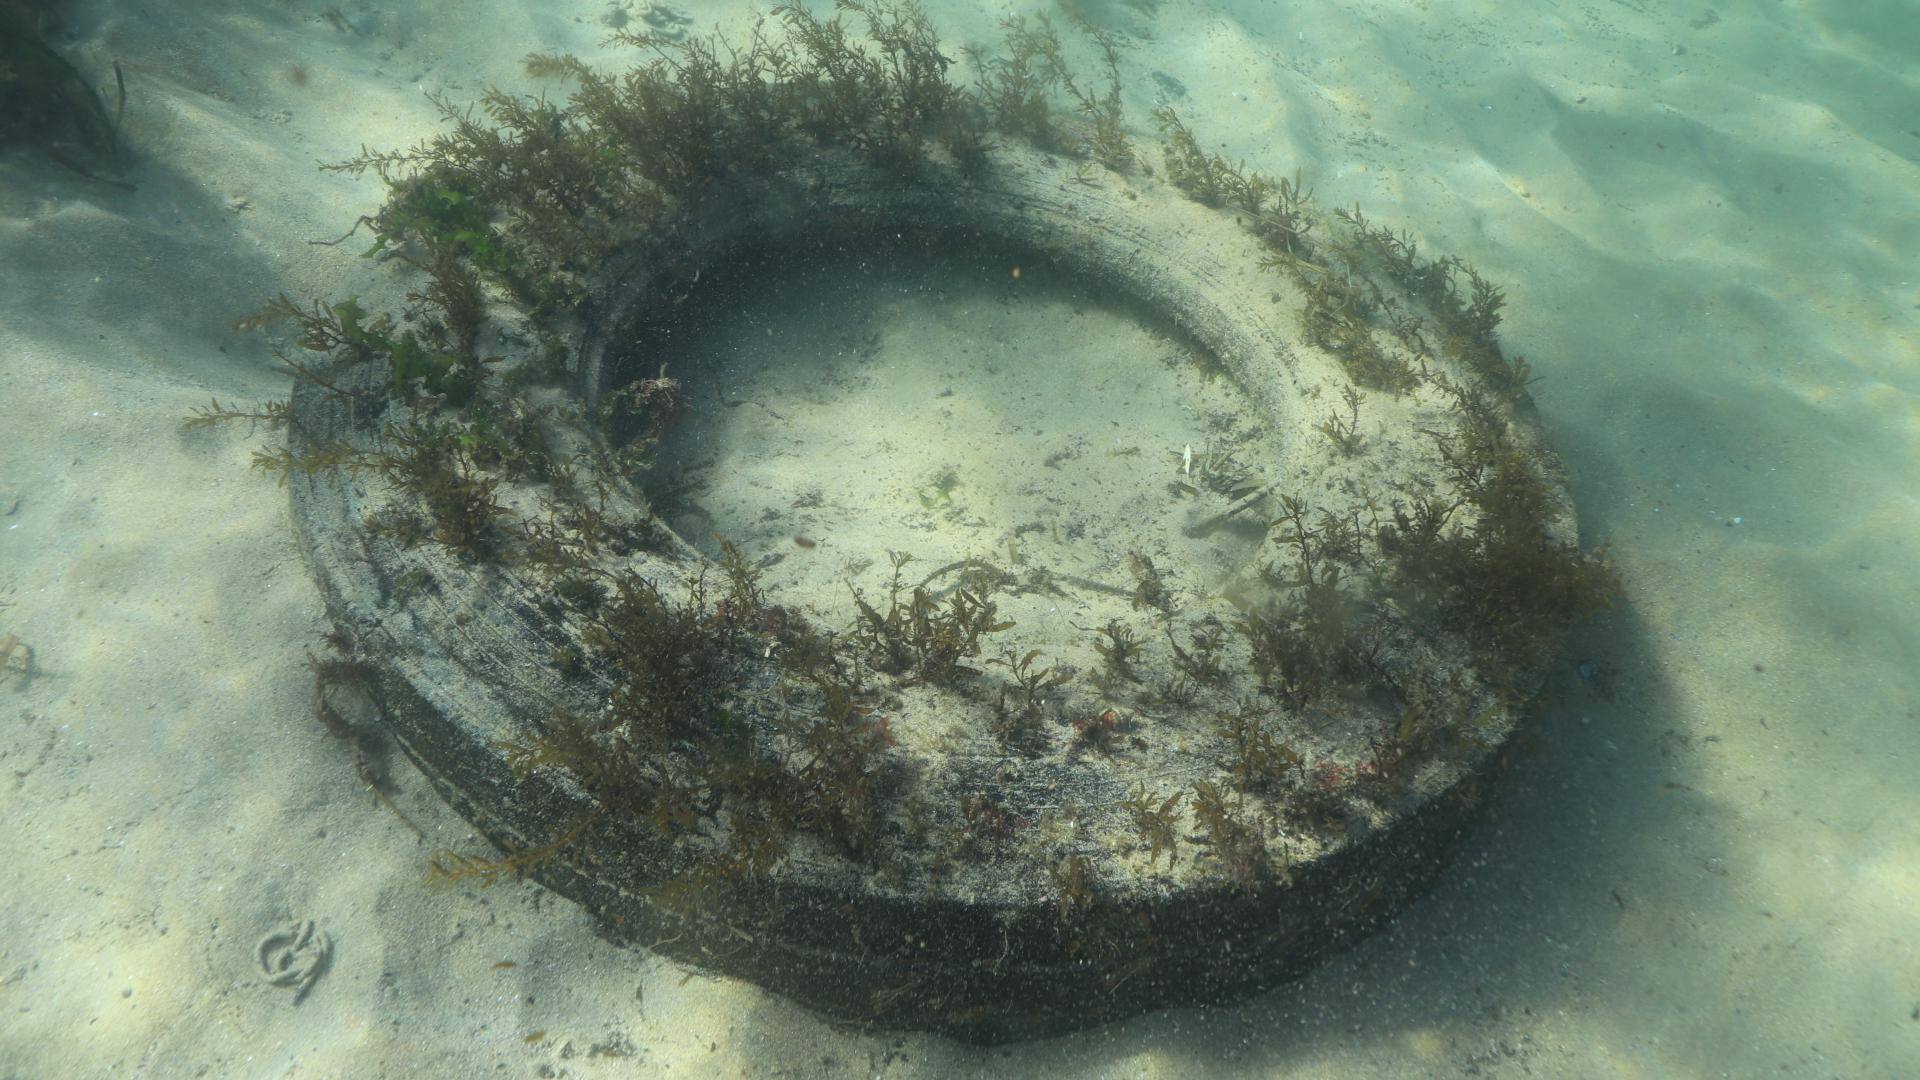tire: (284, 76, 1581, 1044)
